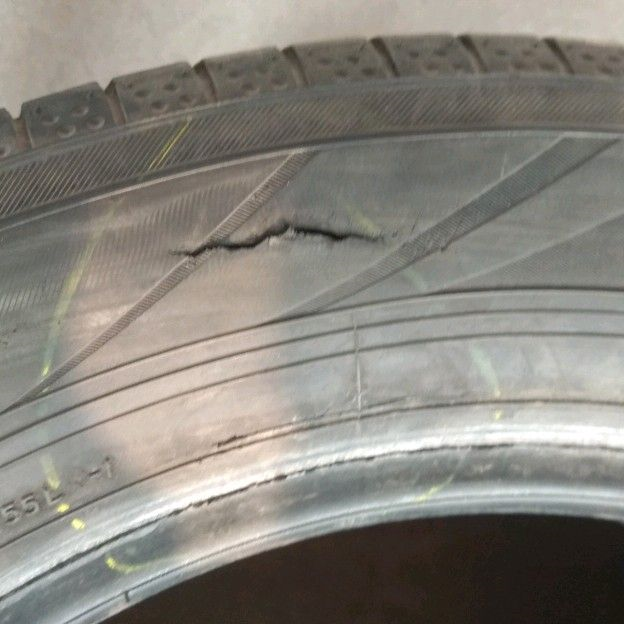cut: (152, 220, 385, 262)
